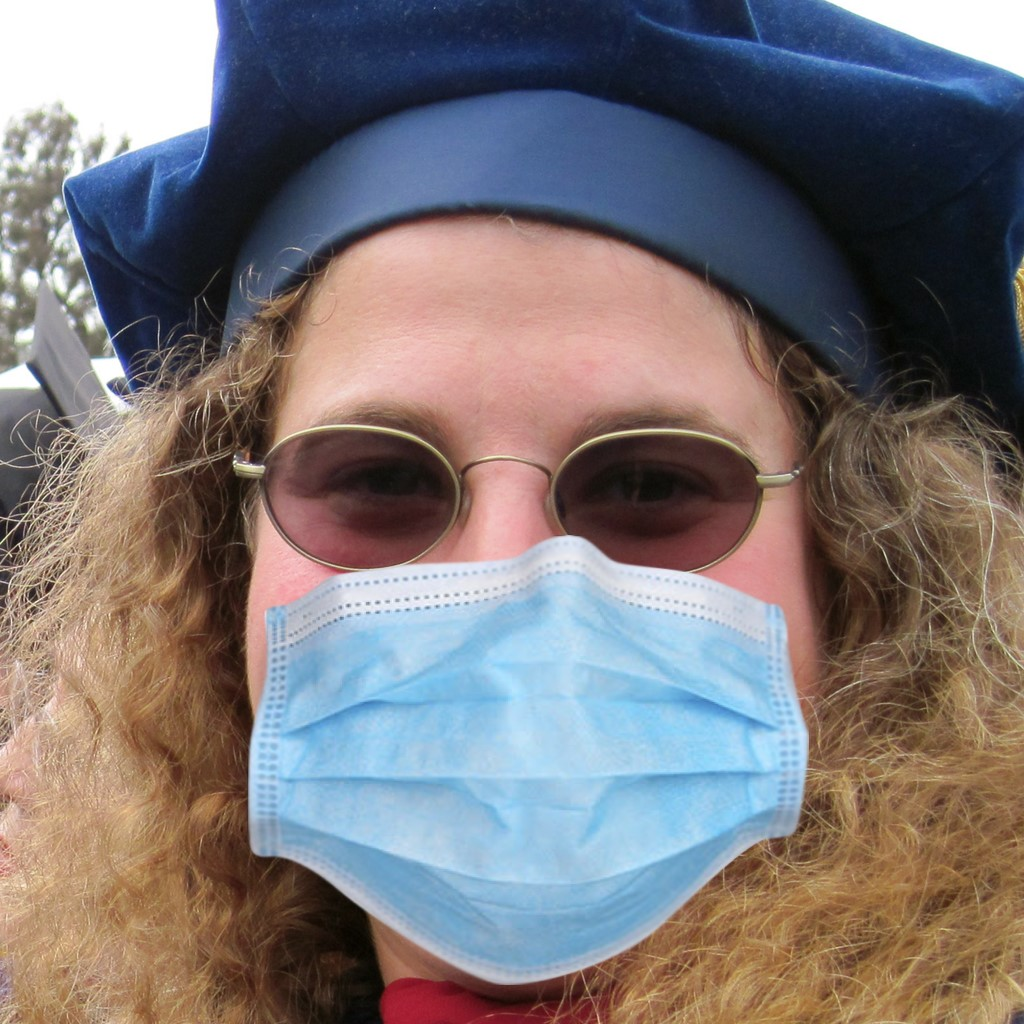con_mascara: (238, 216, 824, 968)
